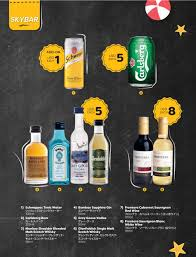not-coke: (23, 115, 49, 197)
